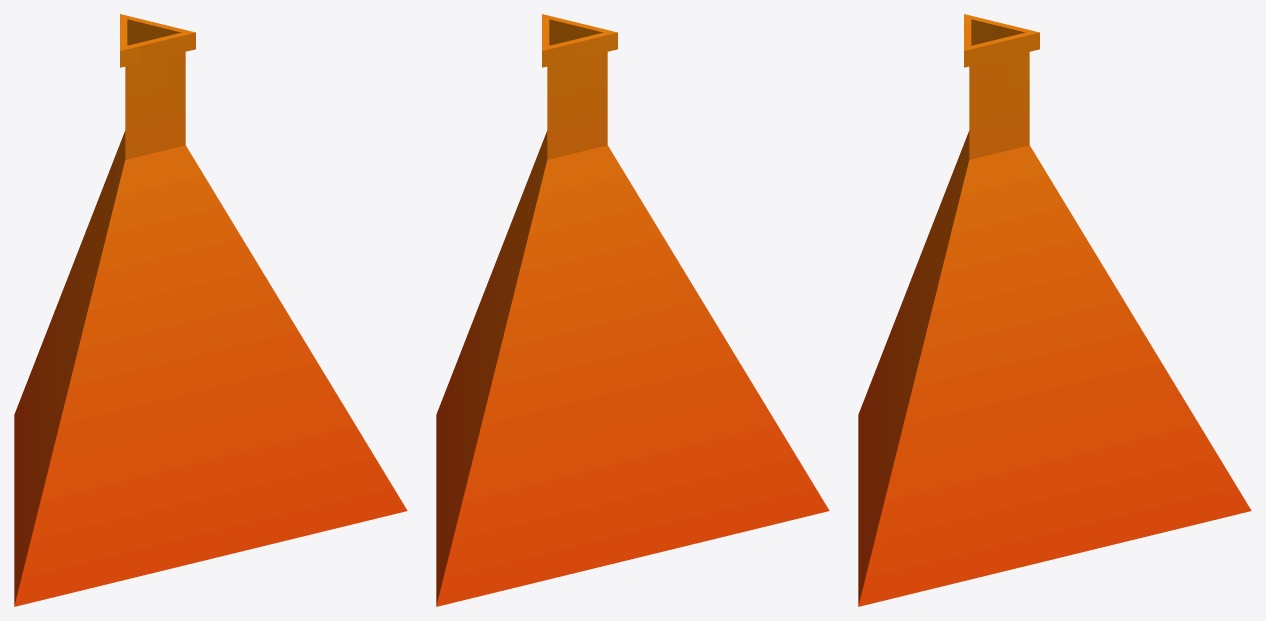
The model's file is UniqueBottle3.fbx.
The picture shows the model from 3 angles, left to right: view 1: azimuth 30°, elevation 25°; view 2: azimuth 150°, elevation 25°; view 3: azimuth 270°, elevation 25°; orthographic projection.
Visible parts, largest first — view 1: UniqueBottle3; view 2: UniqueBottle3; view 3: UniqueBottle3.
Boxes of the visible parts, bbox=[...] form: UniqueBottle3: bbox=[14, 14, 407, 606]; UniqueBottle3: bbox=[436, 14, 829, 606]; UniqueBottle3: bbox=[858, 14, 1251, 606].
Bounding box in the file's own units: 113 × 131 × 97.5.
